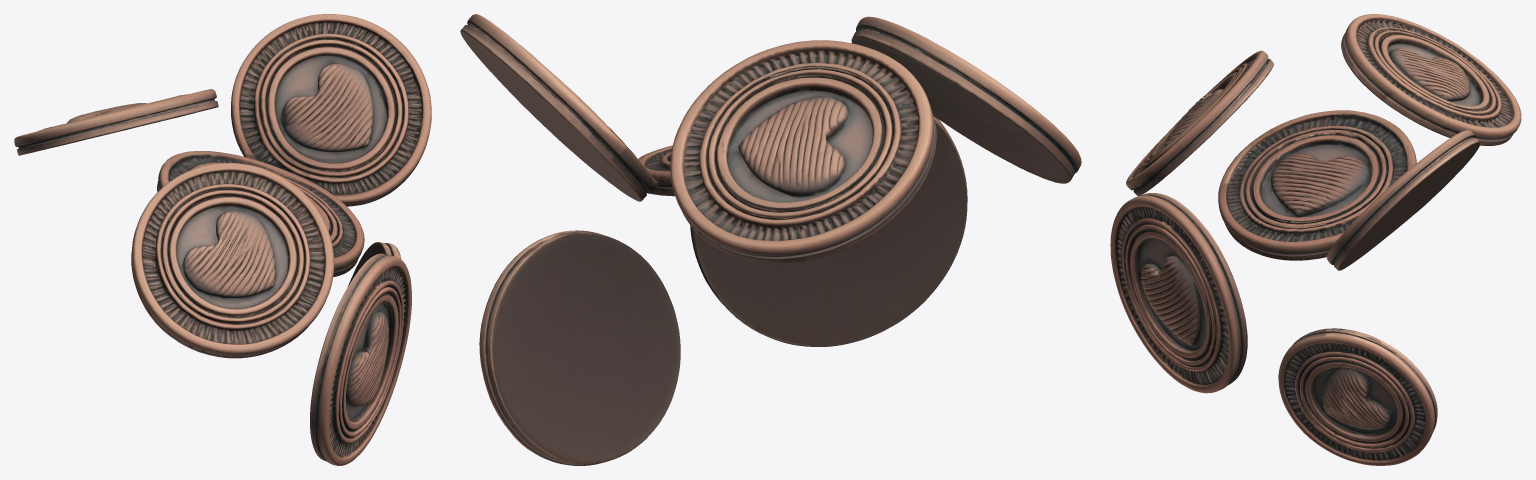
The model's file is copper+heart+coins+3d+model.glb.
The picture shows the model from 3 angles, left to right: view 1: azimuth 30°, elevation 25°; view 2: azimuth 150°, elevation 25°; view 3: azimuth 270°, elevation 25°; orthographic projection. The views are drawn at different scales.
Parts seen in each view (by area): view 1: tripo_node_7108e2fc-730e-44a9-a283-6b2e9d34591a; view 2: tripo_node_7108e2fc-730e-44a9-a283-6b2e9d34591a; view 3: tripo_node_7108e2fc-730e-44a9-a283-6b2e9d34591a.
Part boxes in pixels (x1,y1,x2,y2): tripo_node_7108e2fc-730e-44a9-a283-6b2e9d34591a: (14,14,431,465); tripo_node_7108e2fc-730e-44a9-a283-6b2e9d34591a: (460,14,1081,465); tripo_node_7108e2fc-730e-44a9-a283-6b2e9d34591a: (1110,14,1521,465).
Bounding box in the file's own units: 0.978 × 0.9056 × 0.9802.
Materials: 1 (1 with a texture image).
